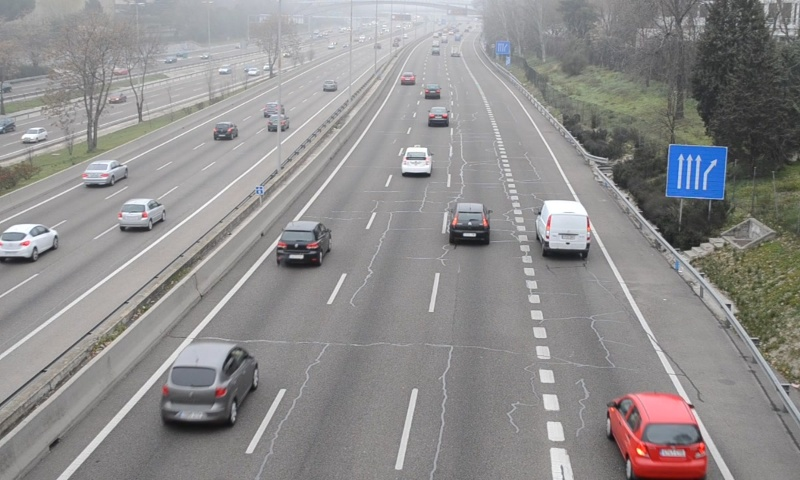car: (160, 342, 260, 429), (608, 393, 708, 480), (277, 220, 331, 265), (450, 202, 489, 241), (400, 146, 431, 176), (427, 106, 448, 126), (423, 82, 441, 99), (400, 70, 415, 86)
van: (537, 200, 592, 253)
